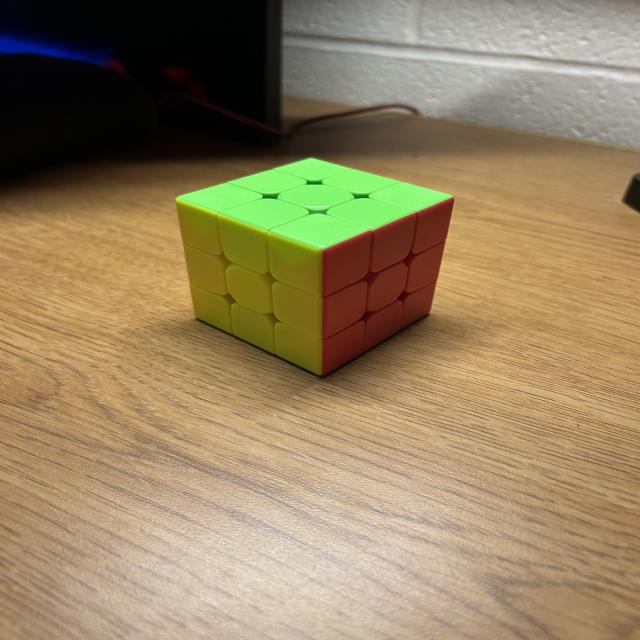Rubiks Cube: (176, 157, 454, 376)
